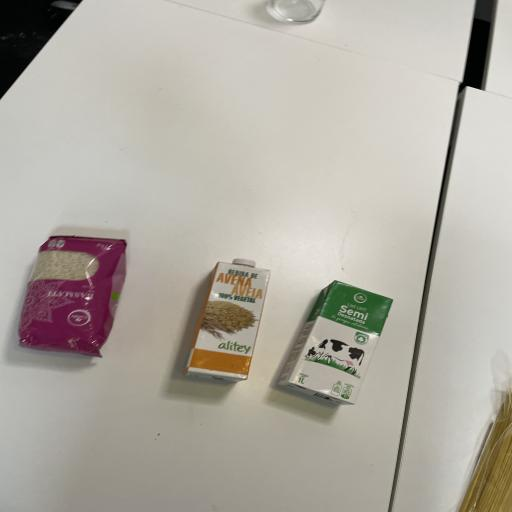milk: (275, 278, 395, 410)
oat_milk: (180, 251, 276, 387)
rice: (11, 233, 134, 361)
